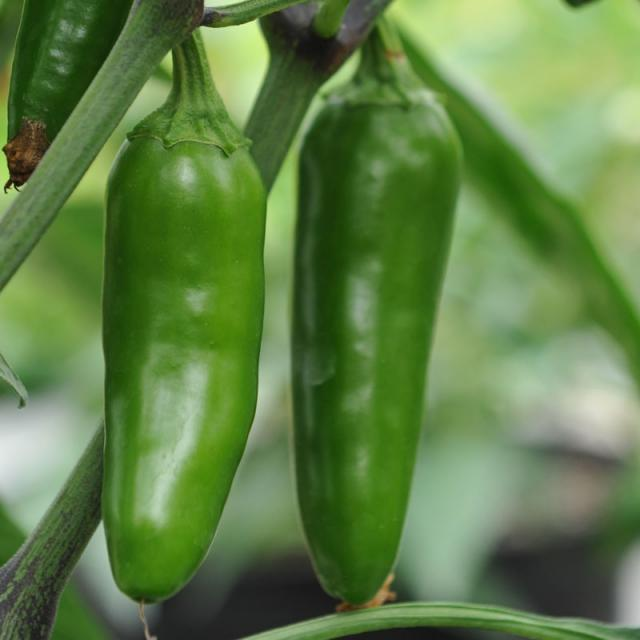chilli: (291, 60, 470, 603), (92, 99, 268, 609)
